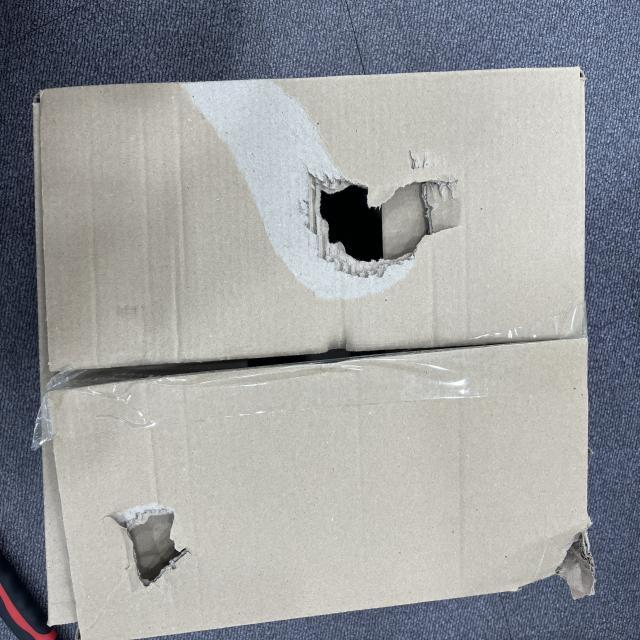hole: (307, 182, 434, 264), (102, 512, 195, 589), (553, 529, 594, 589)
